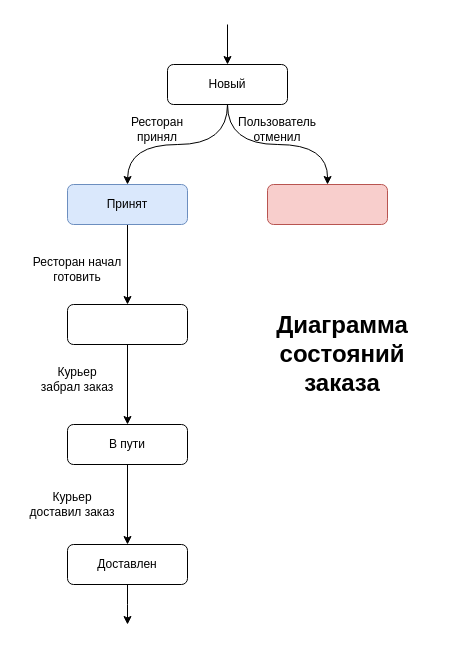
Image size: 454x650. Some labels were removed from this diagram. Each missing label, with the centre of its shape:
"Готовится" goes at (127,324).
"Отменён" goes at (327,204).
